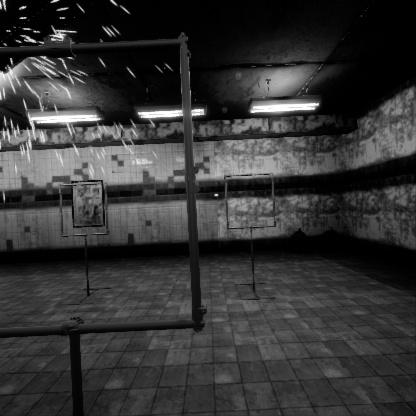gate: (224, 185, 280, 243), (59, 178, 113, 234)
